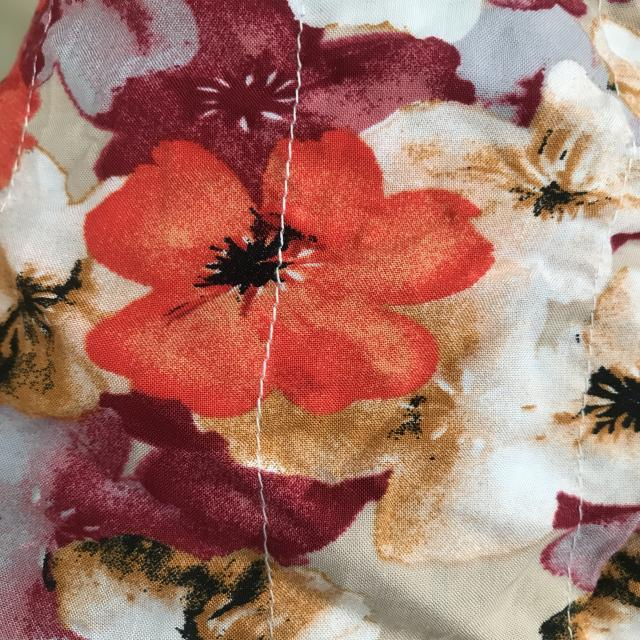good: (248, 478, 290, 567), (273, 127, 293, 239), (257, 314, 279, 386)
